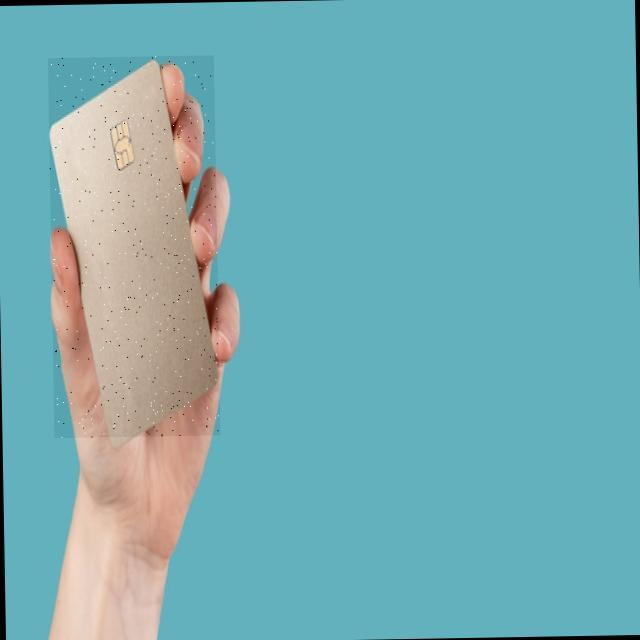payment_card: (47, 57, 218, 441)
